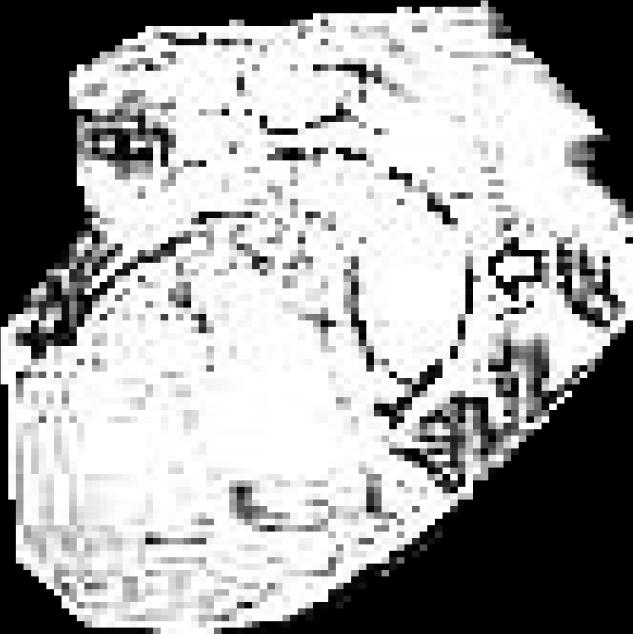tumor_moderate_chance: (1, 0, 633, 634)
